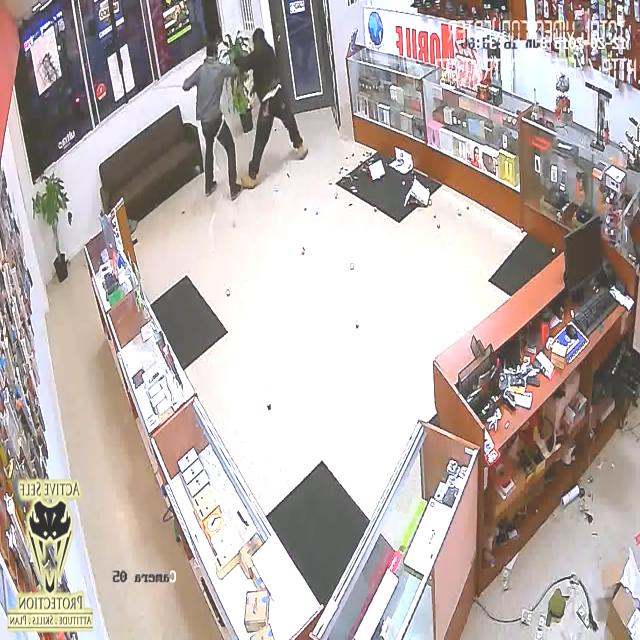fight: (185, 29, 306, 208)
